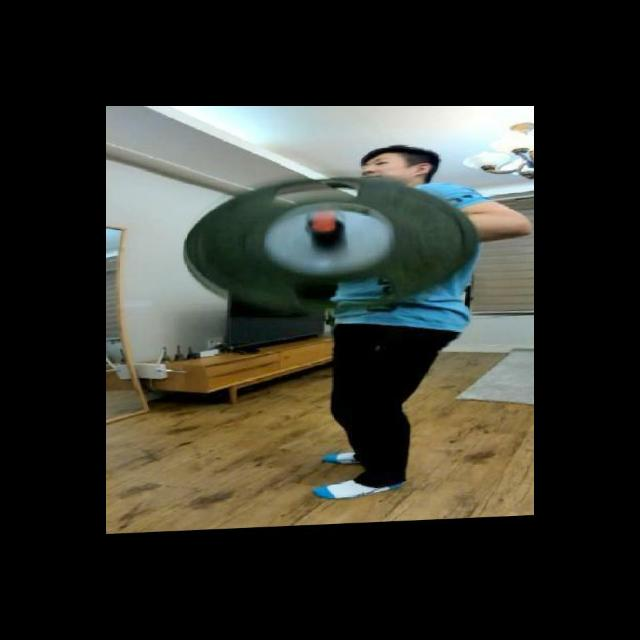barbell: (180, 172, 481, 325)
